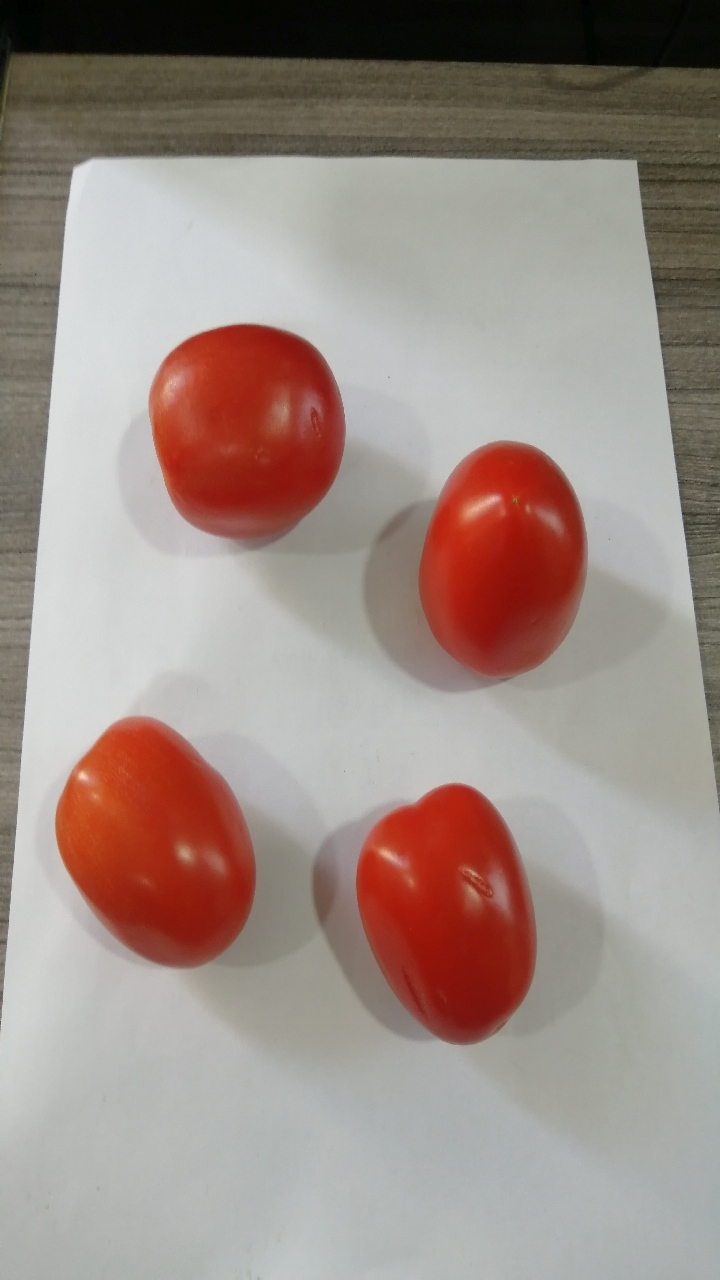tomateRojo: (28, 703, 266, 983), (324, 763, 543, 1060), (128, 299, 357, 574), (395, 422, 597, 692)
